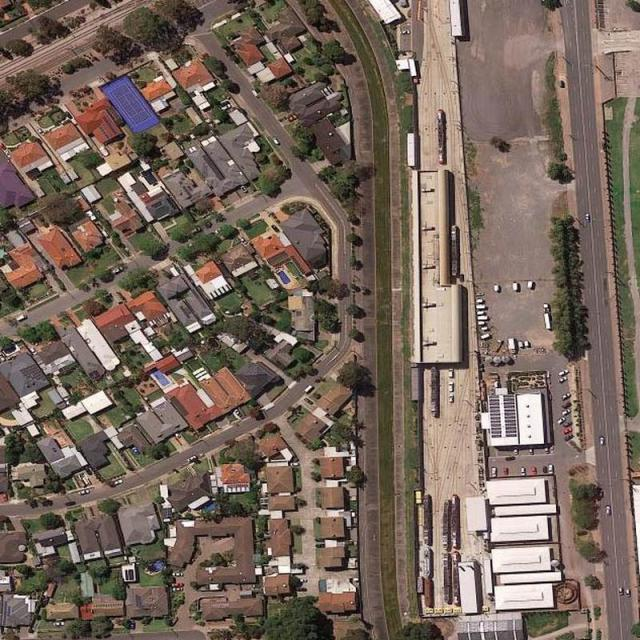vehicle: (543, 303, 551, 330), (507, 338, 516, 354), (494, 340, 505, 353), (190, 226, 203, 234), (304, 384, 314, 393), (564, 434, 574, 442), (491, 467, 498, 478), (289, 114, 298, 122), (561, 402, 571, 409), (562, 392, 570, 400), (234, 410, 242, 418), (17, 315, 26, 322), (2, 492, 8, 502), (86, 466, 92, 476), (114, 267, 122, 274), (557, 418, 566, 424), (563, 422, 572, 428), (563, 428, 572, 434), (449, 382, 454, 392), (187, 456, 197, 461), (241, 238, 248, 245), (558, 377, 566, 383), (503, 468, 509, 476), (273, 138, 279, 146), (222, 104, 230, 110), (114, 480, 122, 486), (172, 583, 184, 587), (618, 587, 624, 595), (449, 369, 454, 378), (559, 370, 568, 375), (549, 465, 554, 474), (296, 587, 307, 591), (79, 490, 90, 494), (173, 572, 184, 576), (526, 281, 533, 287), (449, 394, 454, 402), (513, 283, 518, 291), (562, 410, 570, 415), (521, 468, 526, 476), (506, 457, 516, 461), (400, 30, 410, 34), (173, 587, 183, 591), (54, 622, 64, 626), (626, 590, 631, 598), (532, 467, 537, 474), (130, 623, 135, 630), (599, 438, 604, 445), (482, 334, 490, 338), (134, 447, 138, 455), (606, 506, 610, 514), (586, 214, 590, 222), (494, 285, 498, 292), (550, 447, 554, 454), (543, 466, 547, 473), (215, 229, 222, 233), (475, 299, 483, 302), (545, 448, 549, 454), (530, 449, 534, 455), (514, 448, 518, 454), (299, 579, 307, 582), (290, 463, 298, 466), (518, 341, 522, 346), (525, 341, 529, 346), (482, 326, 487, 330), (478, 317, 488, 319), (478, 322, 484, 325), (476, 306, 484, 308), (478, 311, 483, 314)
